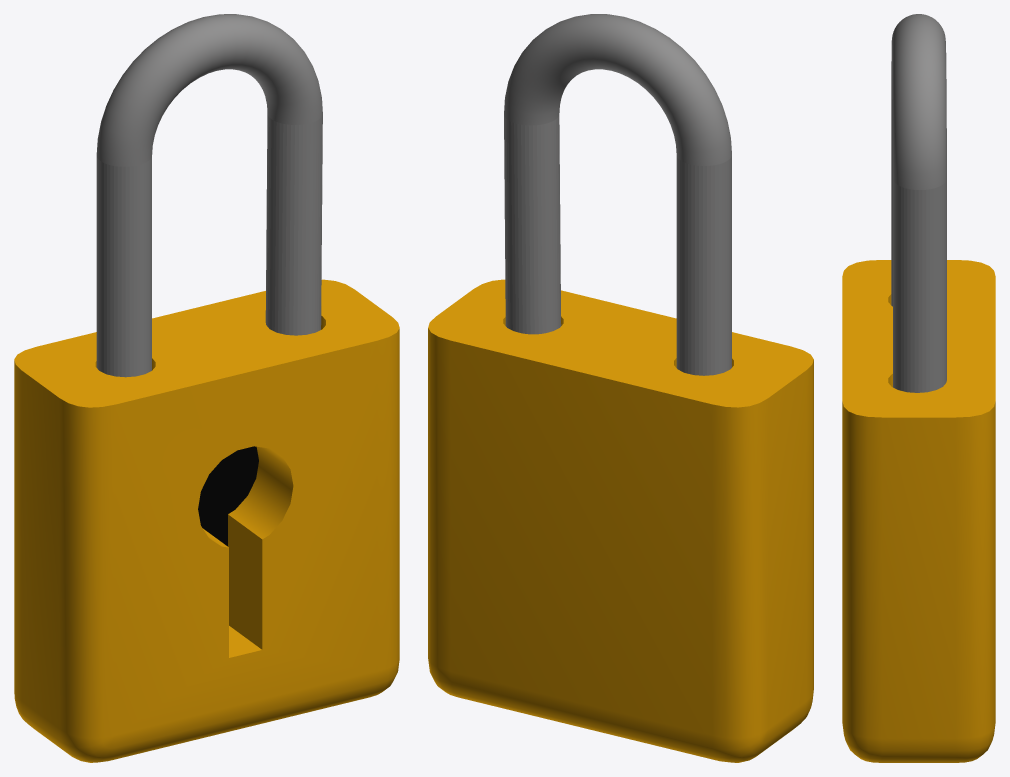
Rendered from gold_lock_improved.glb.
3 views of the same model, side by side, from view 1: azimuth 30°, elevation 25°; view 2: azimuth 150°, elevation 25°; view 3: azimuth 270°, elevation 25° (orthographic). The views are drawn at different scales.
Parts seen in each view (by area): view 1: Box001, Cylinder001, Plane001; view 2: Box001, Cylinder001; view 3: Box001, Cylinder001.
Part boxes in pixels (x1=…): Box001: x1=14, y1=279, x2=399, y2=762; Cylinder001: x1=96, y1=14, x2=322, y2=377; Plane001: x1=198, y1=446, x2=258, y2=546; Box001: x1=428, y1=279, x2=813, y2=762; Cylinder001: x1=504, y1=14, x2=731, y2=375; Box001: x1=842, y1=260, x2=995, y2=762; Cylinder001: x1=891, y1=14, x2=946, y2=392.
Bounding box in the file's own units: 20.74 × 41.22 × 8.53.
